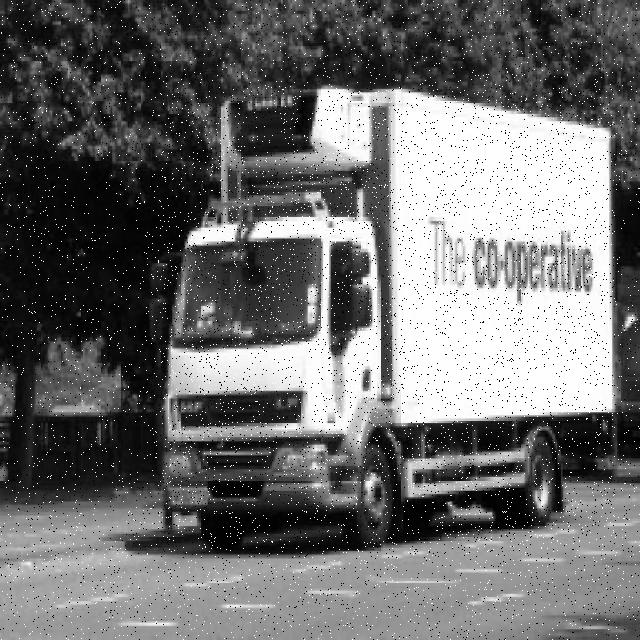Box Truck: (150, 88, 615, 554)
